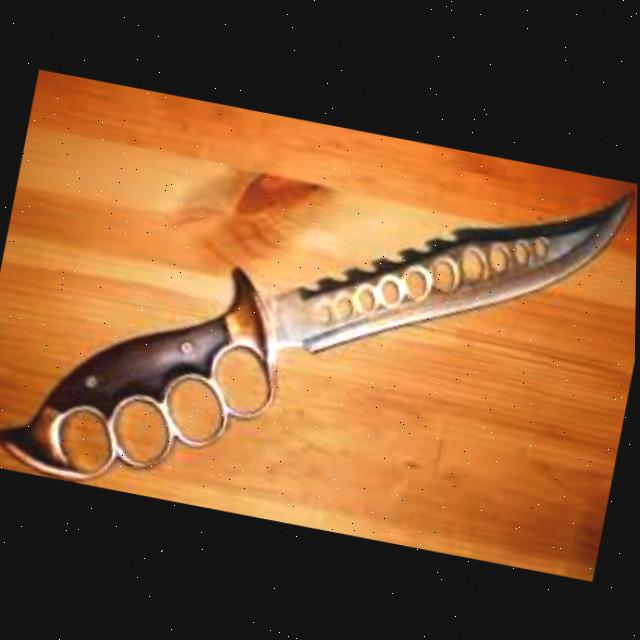knife: (0, 77, 636, 571)
